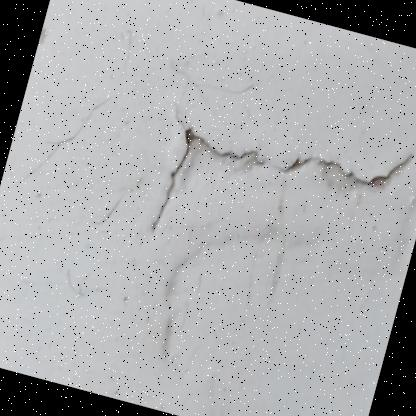Crack: (109, 30, 415, 306), (122, 172, 316, 402), (0, 0, 152, 213), (38, 252, 122, 324), (76, 168, 134, 244), (184, 391, 248, 415)
